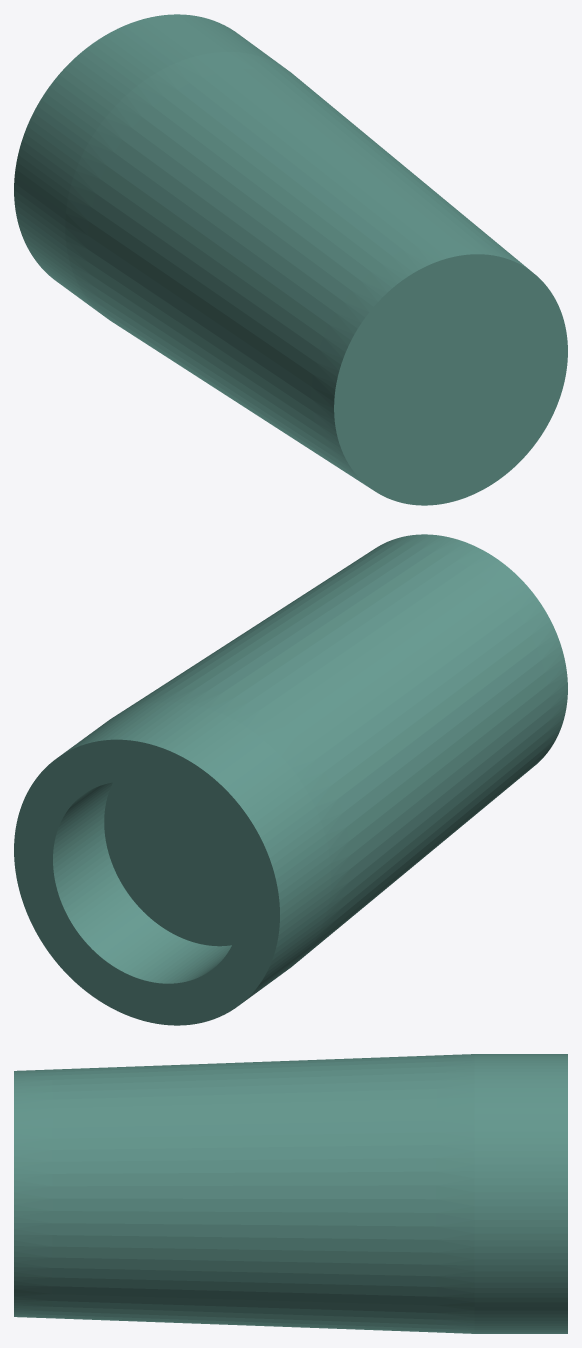
The picture shows the model from 3 angles, top to bottom: view 1: azimuth 30°, elevation 25°; view 2: azimuth 150°, elevation 25°; view 3: azimuth 270°, elevation 25°; orthographic projection. The views are drawn at different scales.
Parts seen in each view (by area): view 1: node; view 2: node; view 3: node.
Boxes of the visible parts, <box> form: node: <box>14,14,567,505</box>; node: <box>14,534,567,1025</box>; node: <box>14,1054,567,1333</box>.
Size of the model in its own units: 0.0608 by 0.0608 by 0.1203.
